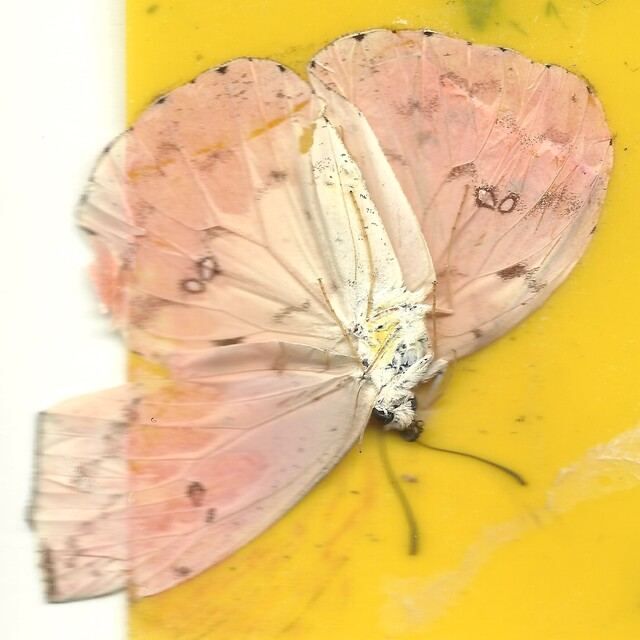Lepidoptera: (25, 23, 615, 617)
